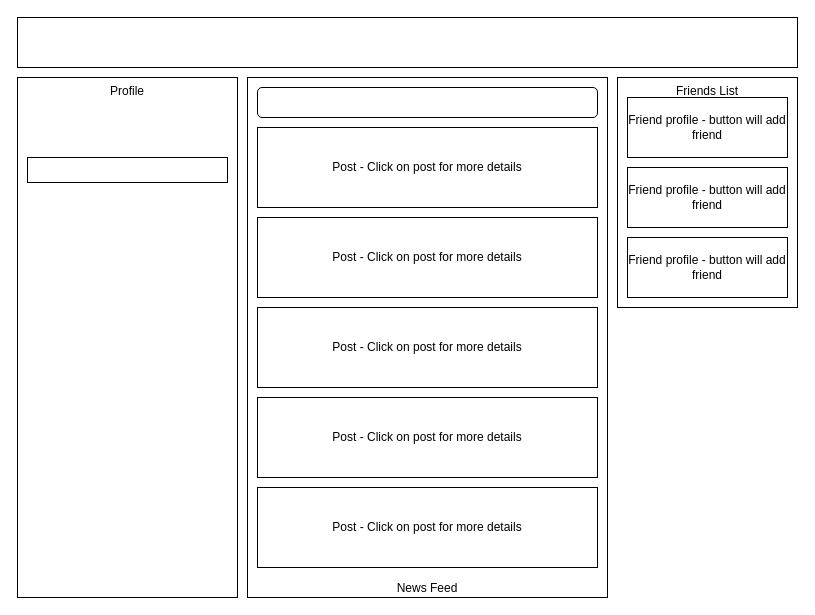
Some shapes in this 815 by 615 pixel diagram are drawn without their labels. The shapes that lost their labels are listed below. From the top down, each one's centre as x and y in pixels, then its label:
At [407,42]: "Header".
At [427,102]: "Search Bar".
At [127,169]: "Profile buttons".
